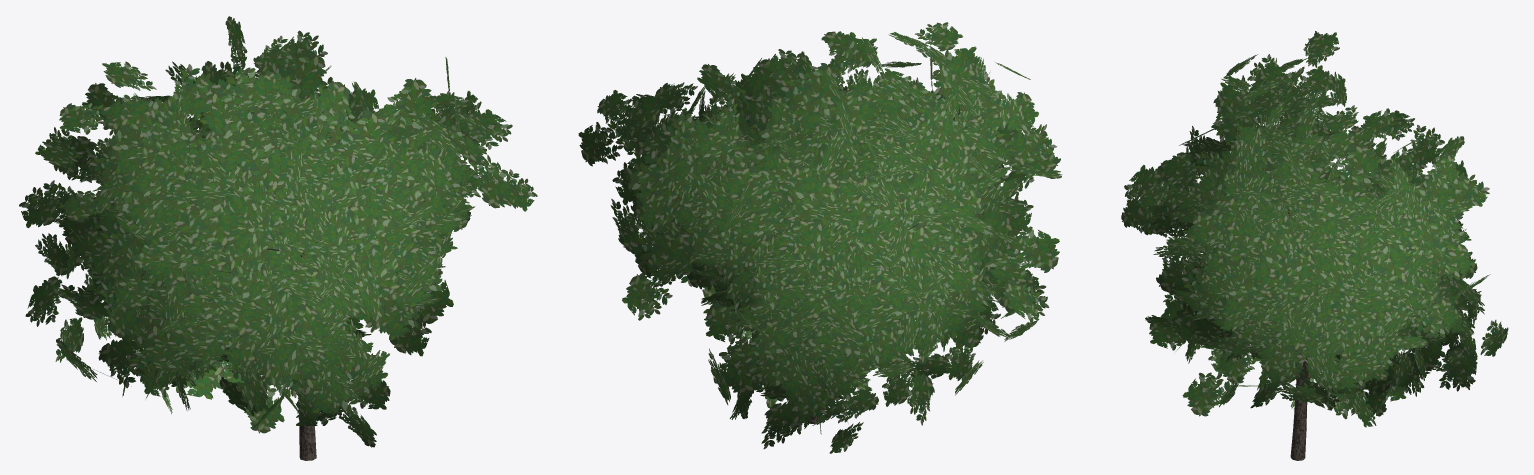
File: HO1_HolmOak_Young_3m.glb
The picture shows the model from 3 angles, left to right: view 1: azimuth 30°, elevation 25°; view 2: azimuth 150°, elevation 25°; view 3: azimuth 270°, elevation 25°; orthographic projection. The views are drawn at different scales.
Visible parts, largest first — view 1: HO1_leaves, HO1_wood; view 2: HO1_leaves; view 3: HO1_leaves, HO1_wood.
Part boxes in pixels (x1,y1,x2,y2): HO1_leaves: [19, 16, 537, 447]; HO1_wood: [103, 161, 321, 460]; HO1_leaves: [578, 22, 1062, 453]; HO1_leaves: [1121, 31, 1508, 427]; HO1_wood: [1210, 111, 1386, 460].
Bounding box in the file's own units: 3.49 × 3 × 3.13.
Materials: 2 (2 with a texture image).
